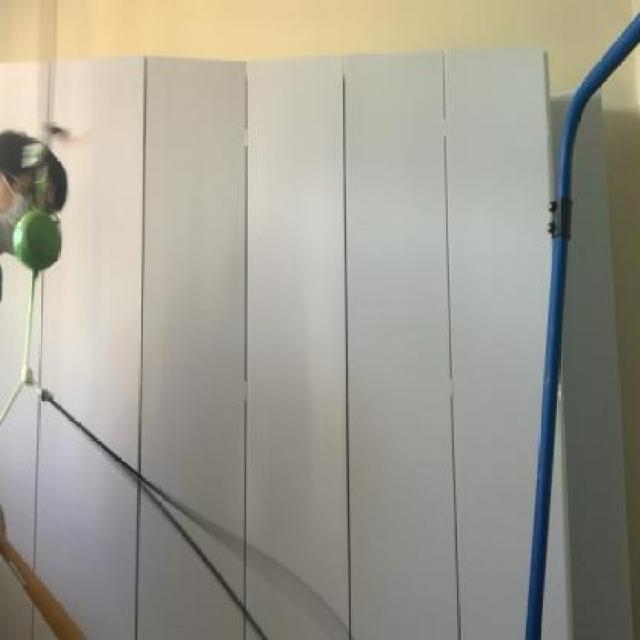baseball: (12, 204, 66, 276)
